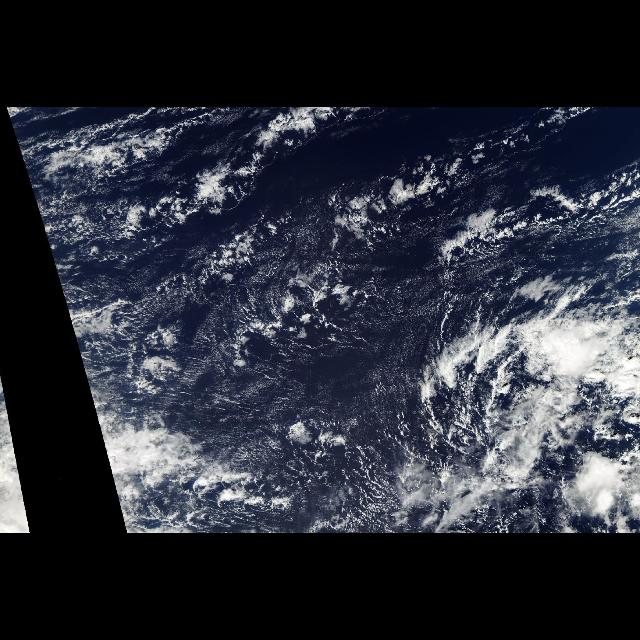Fish: (66, 138, 640, 358)
